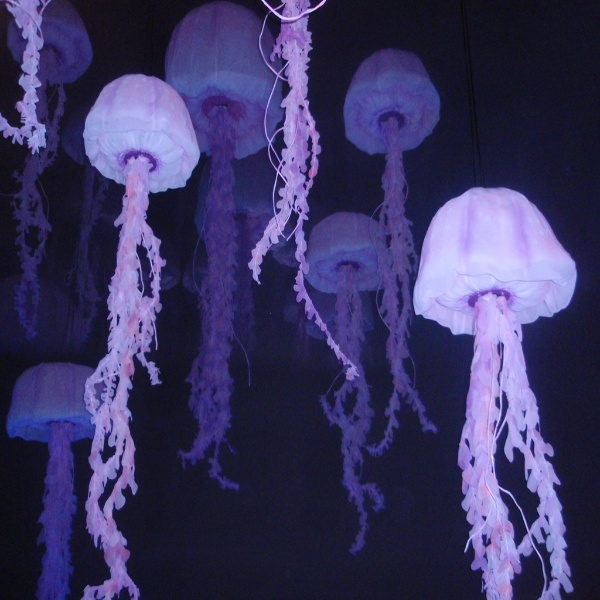Jellyfish: (81, 76, 204, 599), (164, 0, 287, 491), (422, 183, 570, 589), (341, 51, 441, 450), (253, 0, 358, 373), (298, 205, 399, 554), (8, 0, 95, 340), (6, 359, 111, 597)
